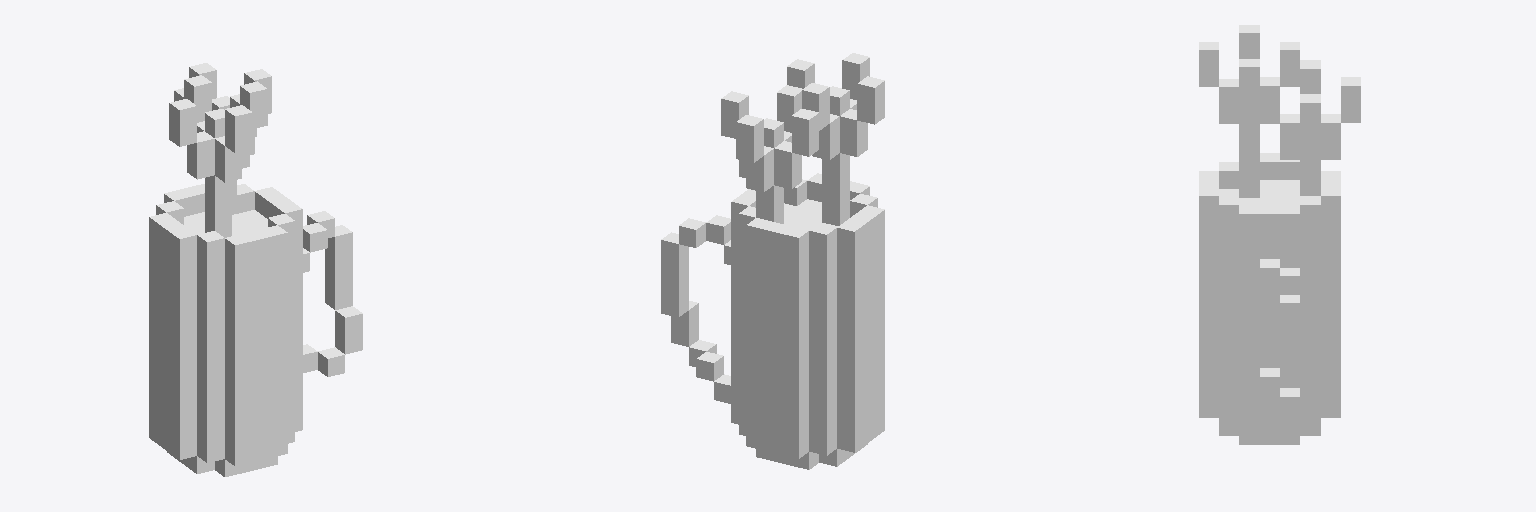
File: model_Test_QuiverMedium.obj
3 views of the same model, side by side, from view 1: azimuth 30°, elevation 25°; view 2: azimuth 150°, elevation 25°; view 3: azimuth 270°, elevation 25° (orthographic).
Visible parts, largest first — view 1: model_Test_QuiverMedium; view 2: model_Test_QuiverMedium; view 3: model_Test_QuiverMedium.
Boxes of the visible parts, x1,y1,x2,y2 form: model_Test_QuiverMedium: [149, 63, 362, 476]; model_Test_QuiverMedium: [661, 53, 884, 469]; model_Test_QuiverMedium: [1199, 25, 1360, 444].
Bounding box in the file's own units: 1.1 × 2 × 0.8.